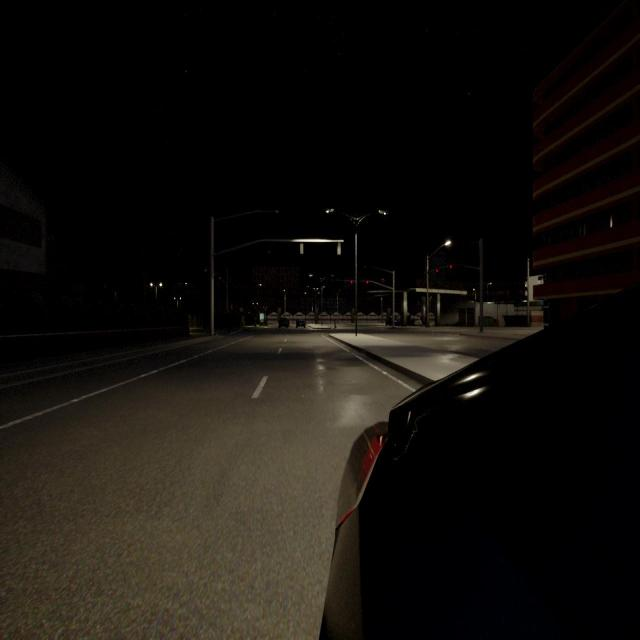Pedestrian: (334, 319, 336, 330)
Vehicle: (323, 299, 639, 638), (386, 314, 400, 326), (279, 317, 288, 328), (296, 319, 305, 328), (259, 320, 267, 326)
traffic_light: (337, 242, 341, 255), (300, 242, 304, 254), (350, 280, 353, 284), (366, 281, 369, 284), (436, 269, 438, 272), (450, 265, 452, 268)
